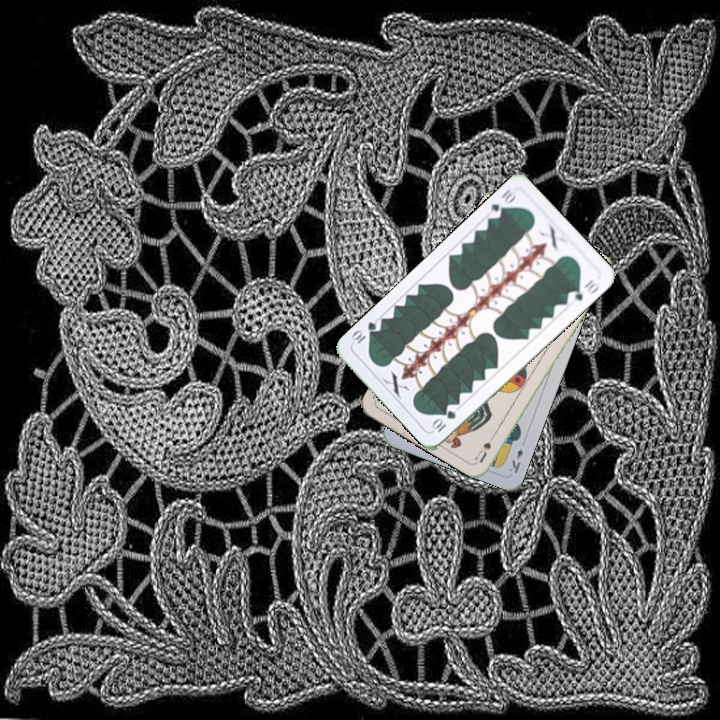EK: (505, 445, 526, 476)
G10: (484, 185, 520, 222), (428, 406, 459, 435)
SU: (471, 427, 500, 465)
